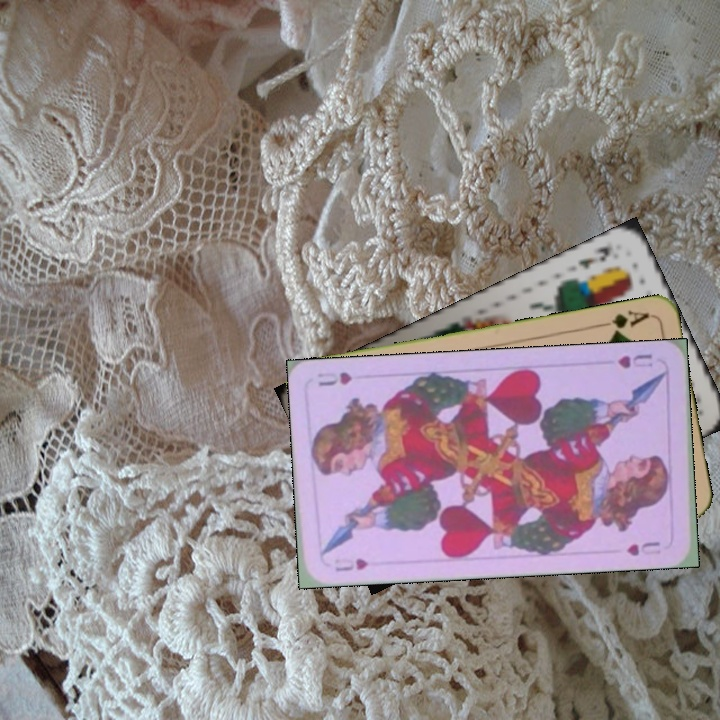EK: (573, 242, 615, 272)
GA: (594, 306, 652, 338)
HU: (613, 349, 655, 371), (331, 554, 371, 574)
